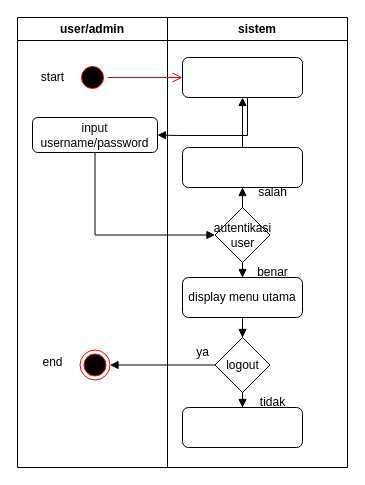
Some shapes in this 365 by 485 pixel diagram are drawn without their labels. Here are the shapes that lost their labels. From the top down, the centre of each, then its label:
At pixel 242 77: "display form login".
At pixel 242 167: "display pesan kesalahan".
At pixel 242 427: "lanjutkan session".
